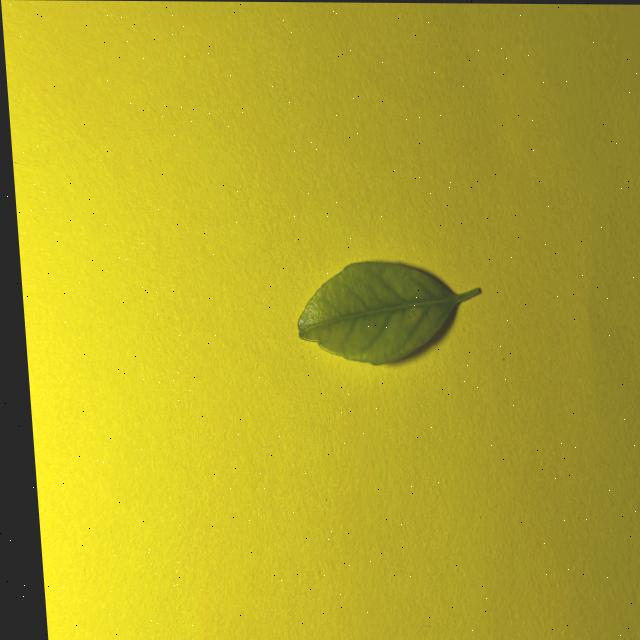greening: (297, 262, 479, 365)
